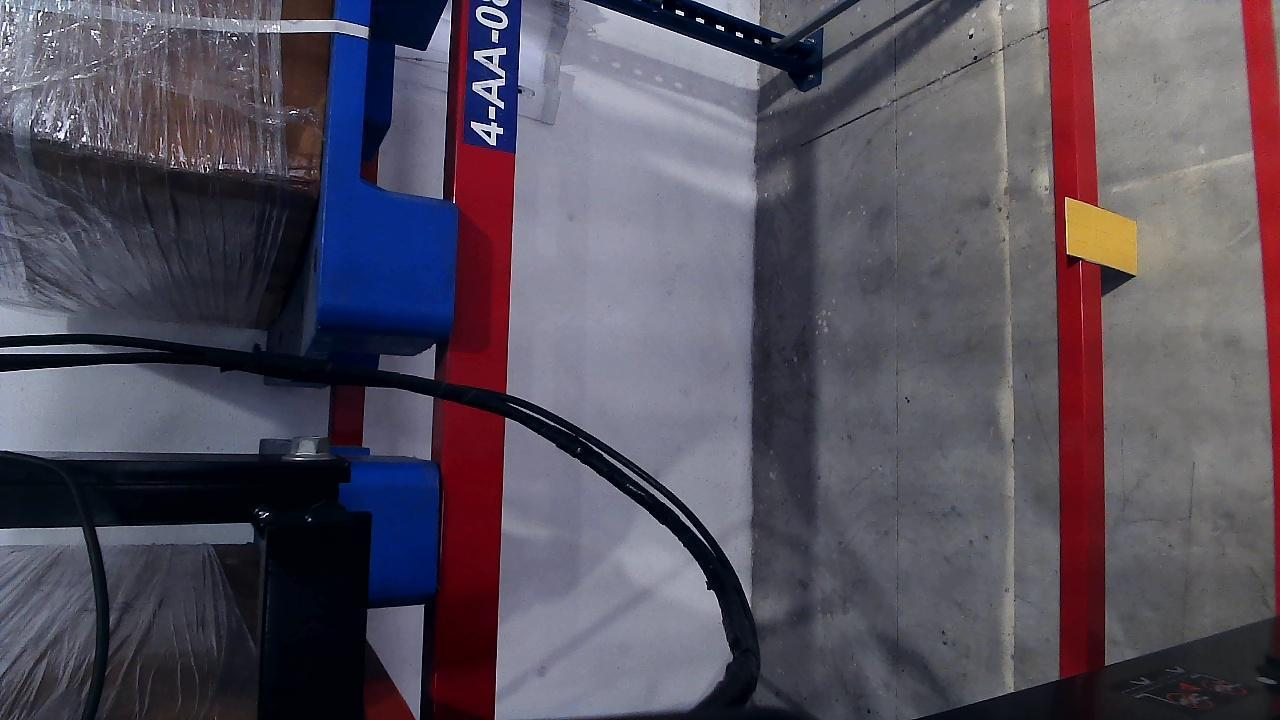red_line: (1243, 0, 1279, 573)
